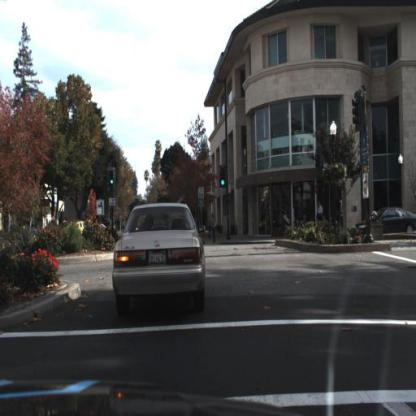car: (114, 199, 209, 321), (352, 206, 416, 240)
pedestrian: (317, 199, 327, 228), (211, 212, 218, 244)
trafficLight: (219, 161, 229, 188), (109, 168, 116, 189)
trafficLight-Green: (220, 166, 228, 190)
